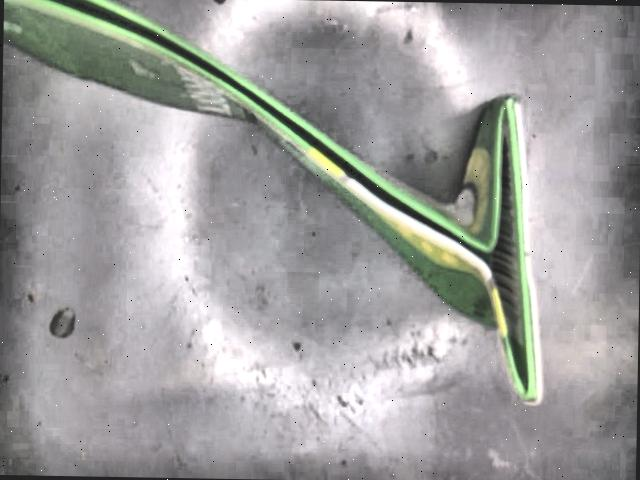Paper: (3, 0, 541, 405)
